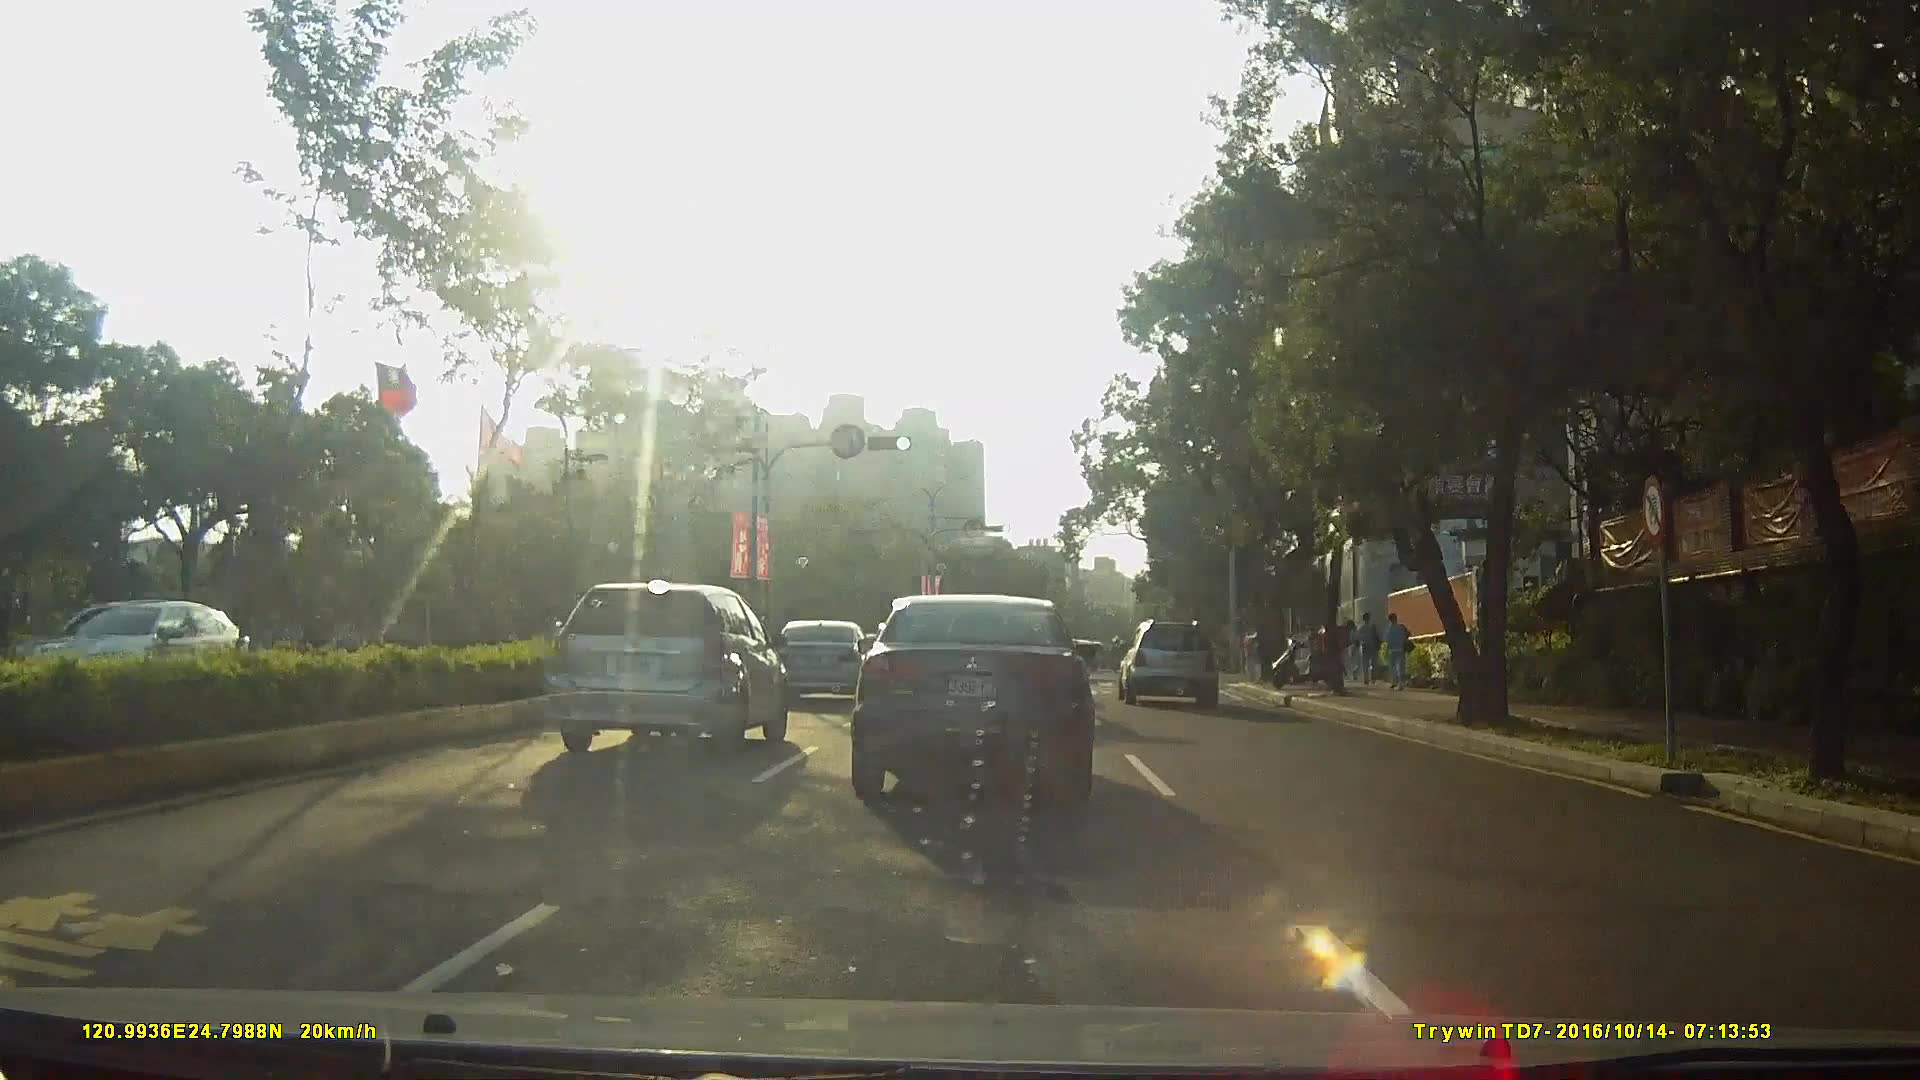pedestrian: (1381, 616, 1413, 699), (1355, 609, 1385, 689)
vehicle: (846, 592, 1092, 808), (543, 578, 787, 755), (9, 598, 241, 700), (1114, 624, 1230, 715), (773, 618, 875, 709)
